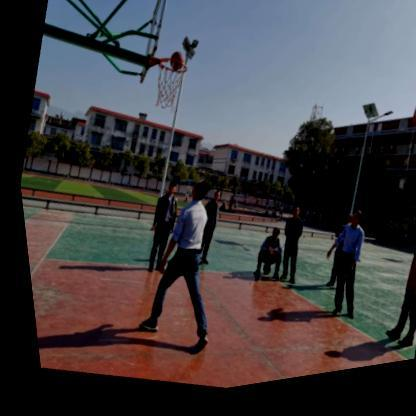basketball: (164, 54, 185, 78)
rim: (144, 58, 189, 119)
